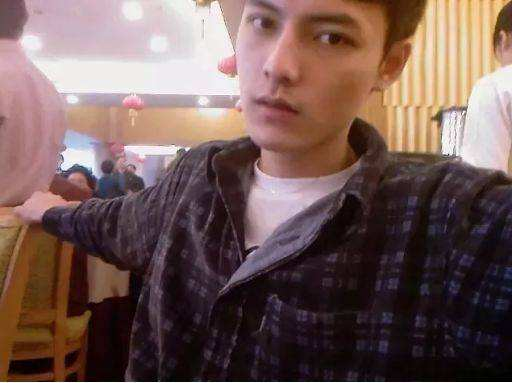person: (124, 1, 459, 329)
